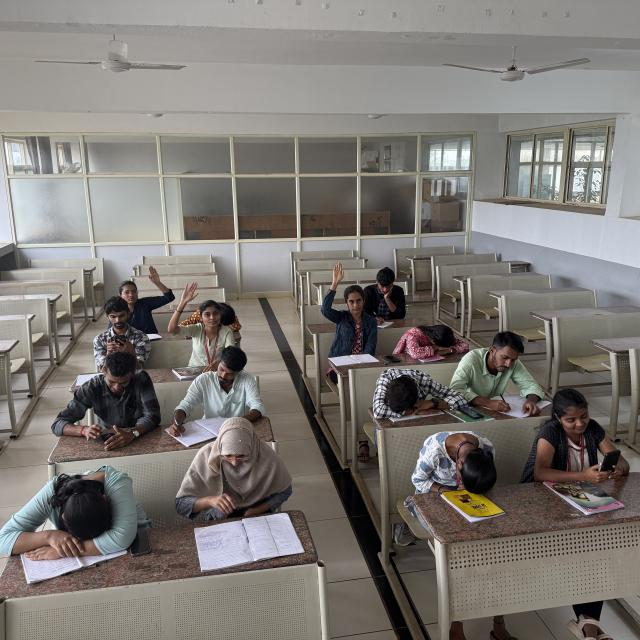Hand Rising: (317, 262, 373, 352), (167, 279, 225, 362), (120, 265, 172, 329)
Reading: (175, 417, 306, 549)
Sleeping: (4, 466, 148, 556), (408, 427, 500, 491), (371, 368, 462, 419), (394, 319, 470, 355)
Using Phone: (527, 382, 631, 482), (55, 346, 159, 441), (90, 295, 151, 365)
Writing: (170, 341, 270, 436), (461, 330, 556, 418), (364, 265, 408, 325)
